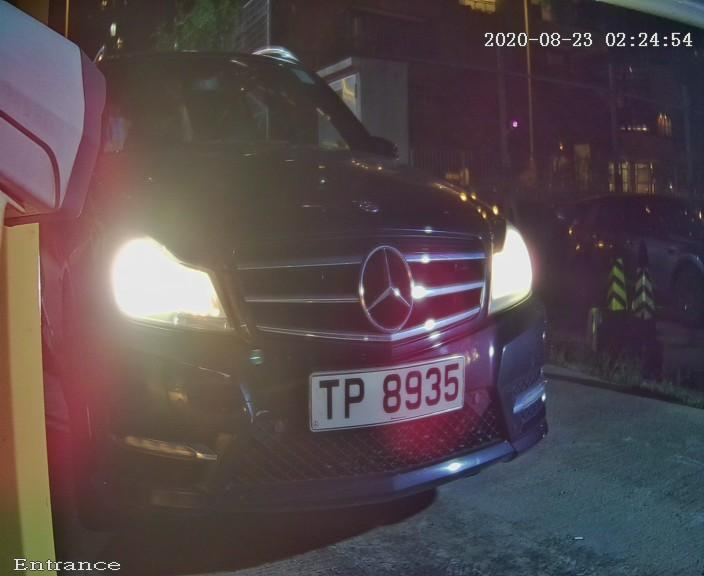Car: (4, 19, 610, 546)
License Plate: (282, 334, 479, 455)
